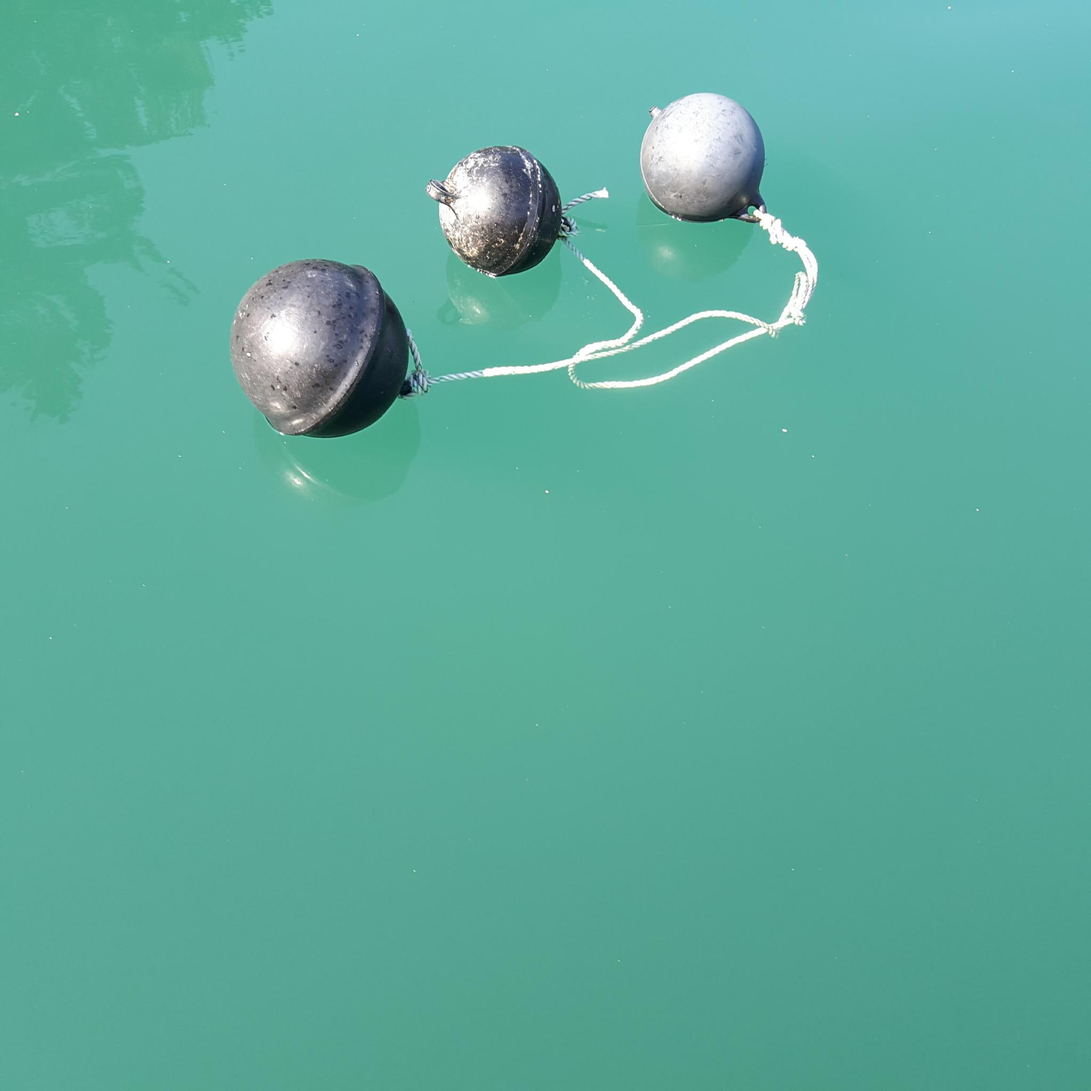sampah_terapung: (400, 187, 819, 400), (230, 258, 409, 439), (426, 146, 563, 278), (640, 93, 768, 223)
